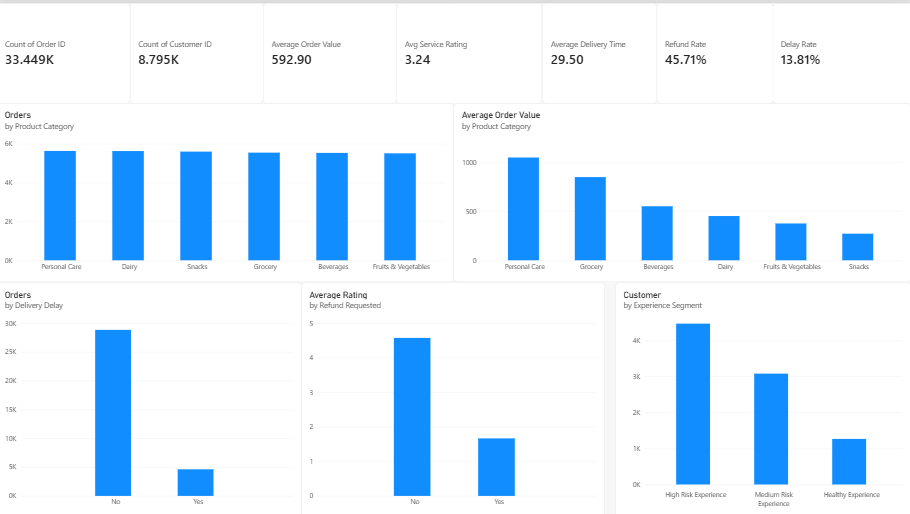

Layout of this report page (visuals, bound fields, positions):
{"tool":"powerbi","page":{"name":"Page 1","canvas":[1920,1080],"ordinal":0},"visuals":[{"type":"cardVisual","fields":{"Data":["Count(instamart_orders.Order ID)"]},"box":[0,0,280,210],"z":0},{"type":"cardVisual","fields":{"Data":["Count(instamart_orders.Customer ID)"]},"box":[280,0,280,210],"z":1000},{"type":"cardVisual","fields":{"Data":["Avg(instamart_orders.Order Value (INR))"]},"box":[560,0,280,210],"z":2000},{"type":"cardVisual","fields":{"Data":["Avg(instamart_orders.Delivery Time (Minutes))"]},"box":[1145,0,240,210],"z":3000},{"type":"cardVisual","fields":{"Data":["Avg(instamart_orders.Service Rating)"]},"box":[840,0,305,210],"z":4000},{"type":"cardVisual","fields":{"Data":["ab_test_results.Refund Rate"]},"box":[1385,0,245,210],"z":5000},{"type":"cardVisual","fields":{"Data":["ab_test_results.Delay Rate"]},"box":[1630,0,295,210],"z":6000},{"type":"clusteredColumnChart","fields":{"Category":["instamart_orders.Product Category"],"Y":["CountNonNull(instamart_orders.Order ID)"]},"box":[0,210,960,375],"z":7000},{"type":"clusteredColumnChart","fields":{"Category":["instamart_orders.Product Category"],"Y":["Avg(instamart_orders.Order Value (INR))"]},"box":[960,210,960,375],"z":8000},{"type":"clusteredColumnChart","fields":{"Category":["instamart_orders.Delivery Delay"],"Y":["Count(instamart_orders.Order ID)"]},"box":[0,586.7,640,493.3],"z":9000},{"type":"clusteredColumnChart","fields":{"Category":["instamart_orders.Refund Requested"],"Y":["Avg(instamart_orders.Service Rating)"]},"box":[640,586.7,636.7,493.3],"z":10000},{"type":"clusteredColumnChart","fields":{"Category":["customer_history.Experience Segment"],"Y":["Count(customer_history.Customer ID)"]},"box":[1300,586.7,620,493.3],"z":11000}]}

Visuals, with their boxes in screenshot pixels (x1, y1, x2, y2), scaled from the page's 1920x1080 canvas onto the 910x514 screenshot:
cardVisual - Count(instamart_orders.Order ID): region(0, 0, 133, 100)
cardVisual - Count(instamart_orders.Customer ID): region(133, 0, 265, 100)
cardVisual - Avg(instamart_orders.Order Value (INR)): region(265, 0, 398, 100)
cardVisual - Avg(instamart_orders.Delivery Time (Minutes)): region(543, 0, 656, 100)
cardVisual - Avg(instamart_orders.Service Rating): region(398, 0, 543, 100)
cardVisual - ab_test_results.Refund Rate: region(656, 0, 773, 100)
cardVisual - ab_test_results.Delay Rate: region(773, 0, 909, 100)
clusteredColumnChart - instamart_orders.Product Category x CountNonNull(instamart_orders.Order ID): region(0, 100, 455, 278)
clusteredColumnChart - instamart_orders.Product Category x Avg(instamart_orders.Order Value (INR)): region(455, 100, 909, 278)
clusteredColumnChart - instamart_orders.Delivery Delay x Count(instamart_orders.Order ID): region(0, 279, 303, 513)
clusteredColumnChart - instamart_orders.Refund Requested x Avg(instamart_orders.Service Rating): region(303, 279, 605, 513)
clusteredColumnChart - customer_history.Experience Segment x Count(customer_history.Customer ID): region(616, 279, 909, 513)
